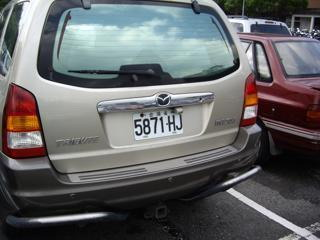plate: (129, 110, 186, 136)
